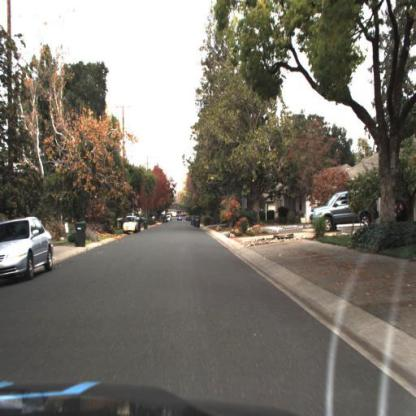car: (1, 218, 55, 287), (307, 186, 381, 235), (122, 213, 140, 236)
